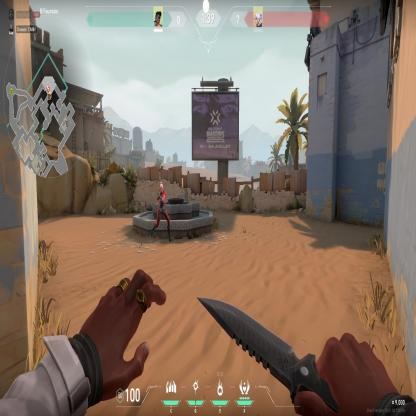enemy: (150, 181, 174, 242)
